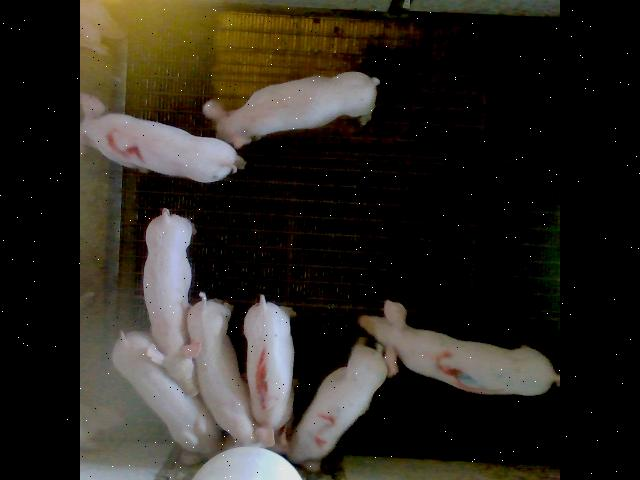pig-1: (244, 295, 294, 445)
pig-2: (81, 92, 240, 181)
pig-3: (359, 301, 559, 395)
pig-5: (274, 338, 388, 470)
